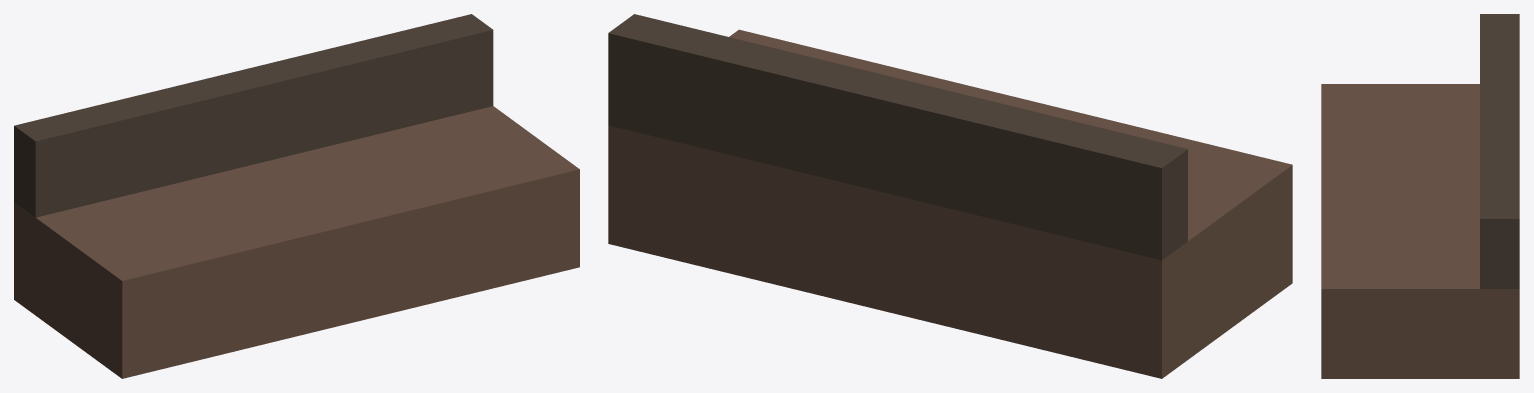
Rendered from pi4a-sofa.glb.
3 renders of one model, left to right at view 1: azimuth 30°, elevation 25°; view 2: azimuth 150°, elevation 25°; view 3: azimuth 270°, elevation 25°, orthographic. The views are drawn at different scales.
Visible parts, largest first — view 1: seat, back; view 2: seat, back; view 3: seat, back.
Boxes of the visible parts, bbox=[...] form: seat: bbox=[14, 106, 579, 378]; back: bbox=[14, 14, 493, 217]; seat: bbox=[608, 29, 1292, 378]; back: bbox=[608, 14, 1187, 260]; seat: bbox=[1321, 84, 1519, 378]; back: bbox=[1480, 14, 1519, 288].
Bounding box in the file's own units: 2.2 × 0.8 × 0.9.
